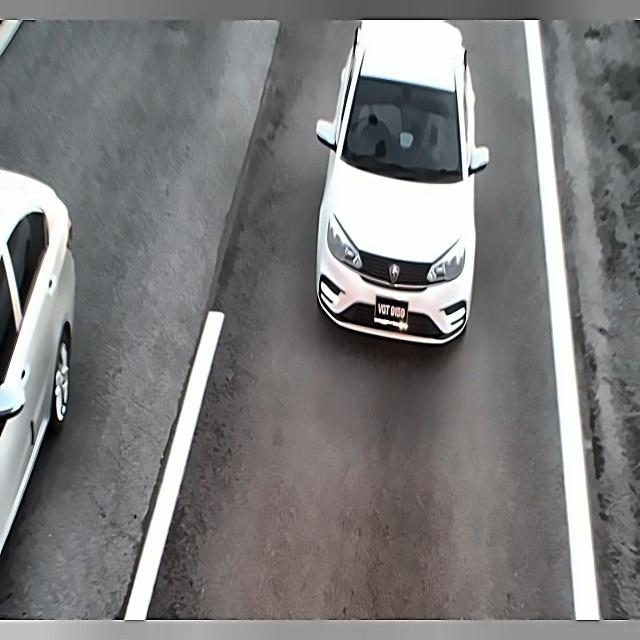car: (372, 290, 414, 332)
